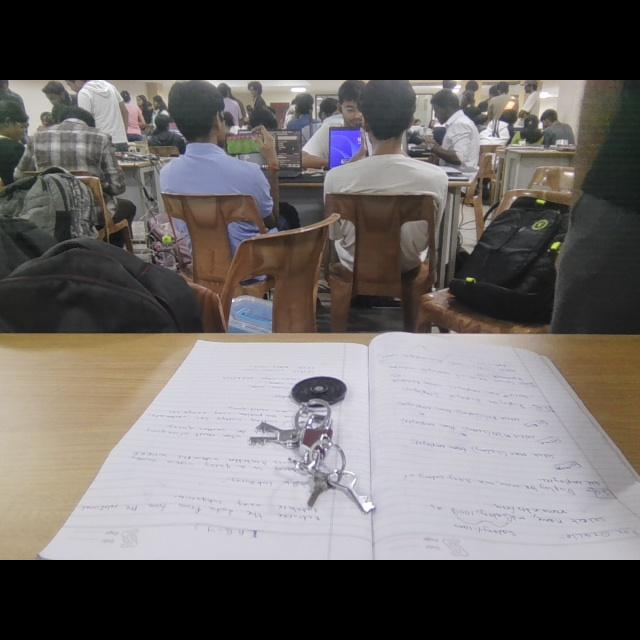keys: (247, 368, 401, 524)
